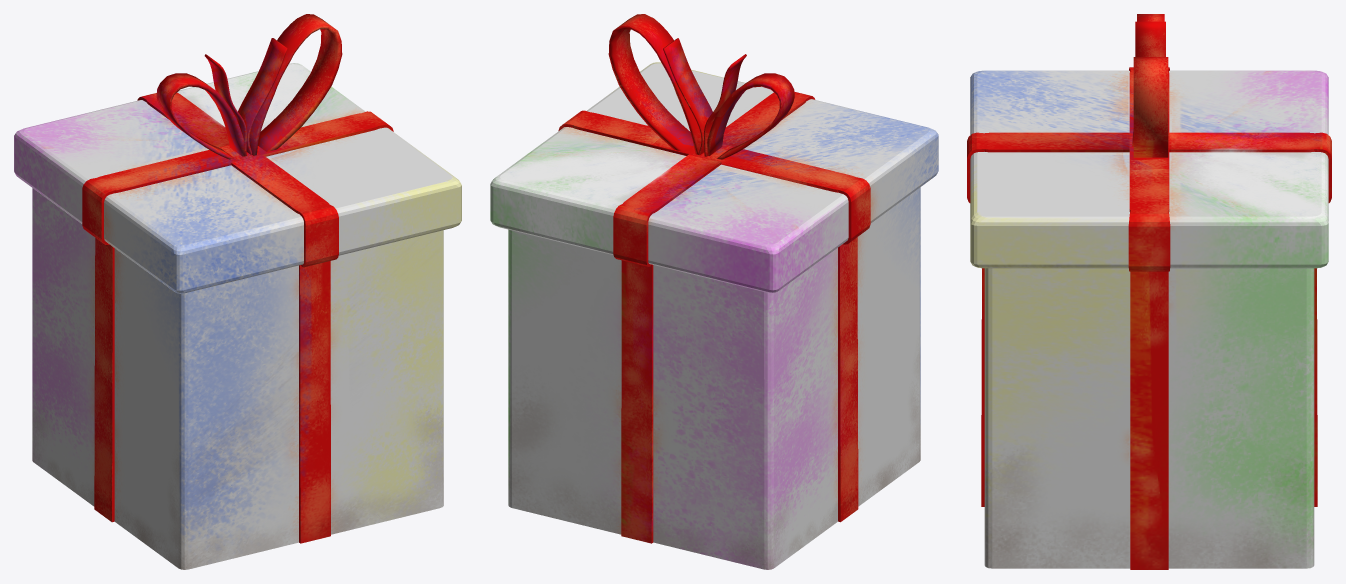
Rendered from Giftbox.fbx.
The picture shows the model from 3 angles, left to right: view 1: azimuth 30°, elevation 25°; view 2: azimuth 150°, elevation 25°; view 3: azimuth 270°, elevation 25°; orthographic projection. The views are drawn at different scales.
Parts seen in each view (by area): view 1: Giftbox; view 2: Giftbox; view 3: Giftbox.
Boxes of the visible parts, x1,y1,x2,y2 form: Giftbox: (14, 14, 461, 569); Giftbox: (490, 14, 938, 569); Giftbox: (967, 14, 1331, 569).
Bounding box in the file's own units: 221 × 321 × 221.
Materials: 1 (1 with a texture image).
